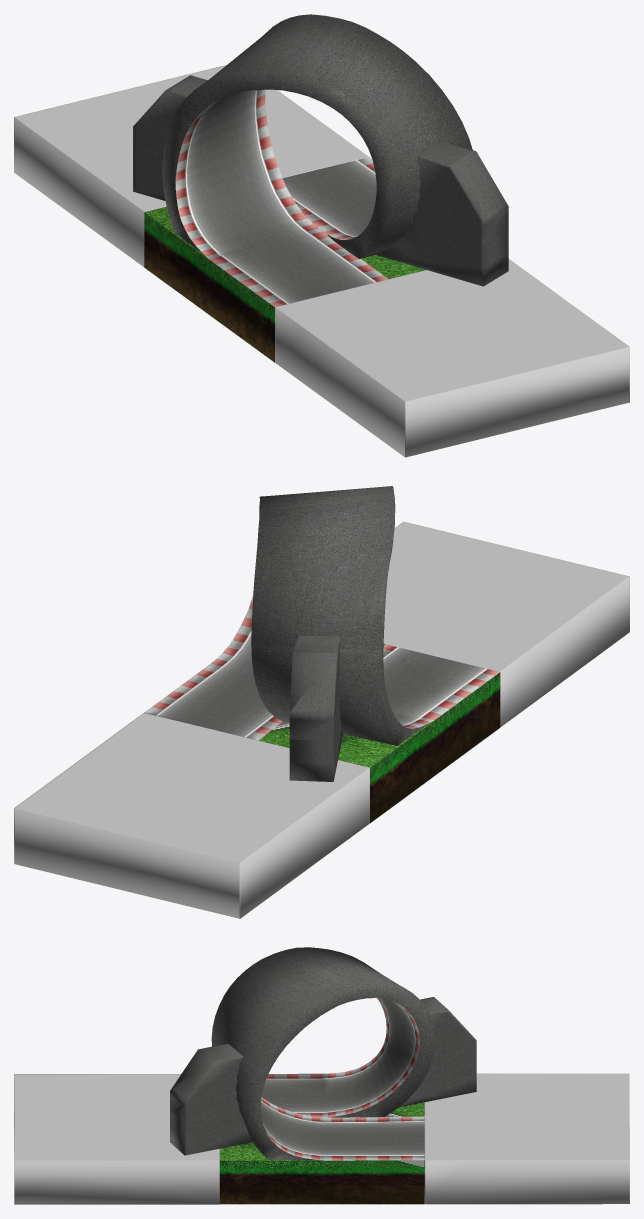
File: road loop.fbx
3 views of the same model, one above another, from view 1: azimuth 30°, elevation 25°; view 2: azimuth 150°, elevation 25°; view 3: azimuth 270°, elevation 25° (orthographic). The views are drawn at different scales.
Visible parts, largest first — view 1: loop road; view 2: loop road; view 3: loop road.
Boxes of the visible parts, x1,y1,x2,y2 form: loop road: (14,14,629,457); loop road: (14,486,629,918); loop road: (14,947,629,1204).
Bounding box in the file's own units: 392 × 402 × 1170.
